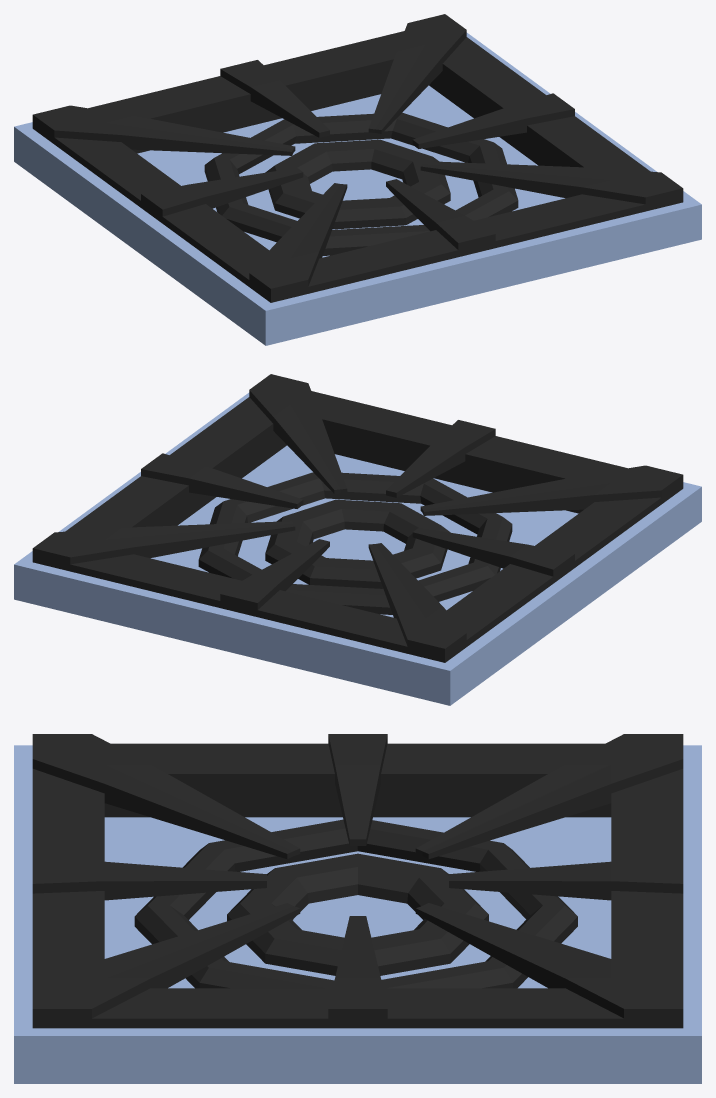
File: Estación_Wok_NoTextures.fbx
3 views of the same model, one above another, from view 1: azimuth 30°, elevation 25°; view 2: azimuth 150°, elevation 25°; view 3: azimuth 270°, elevation 25° (orthographic). The views are drawn at different scales.
Visible parts, largest first — view 1: m_Hornalla; view 2: m_Hornalla; view 3: m_Hornalla.
Part boxes in pixels (box(x1,y1,x2,y2)): m_Hornalla: box(14, 14, 701, 345); m_Hornalla: box(14, 374, 701, 705); m_Hornalla: box(14, 734, 701, 1083).
Bounding box in the file's own units: 131 × 14.08 × 131.
